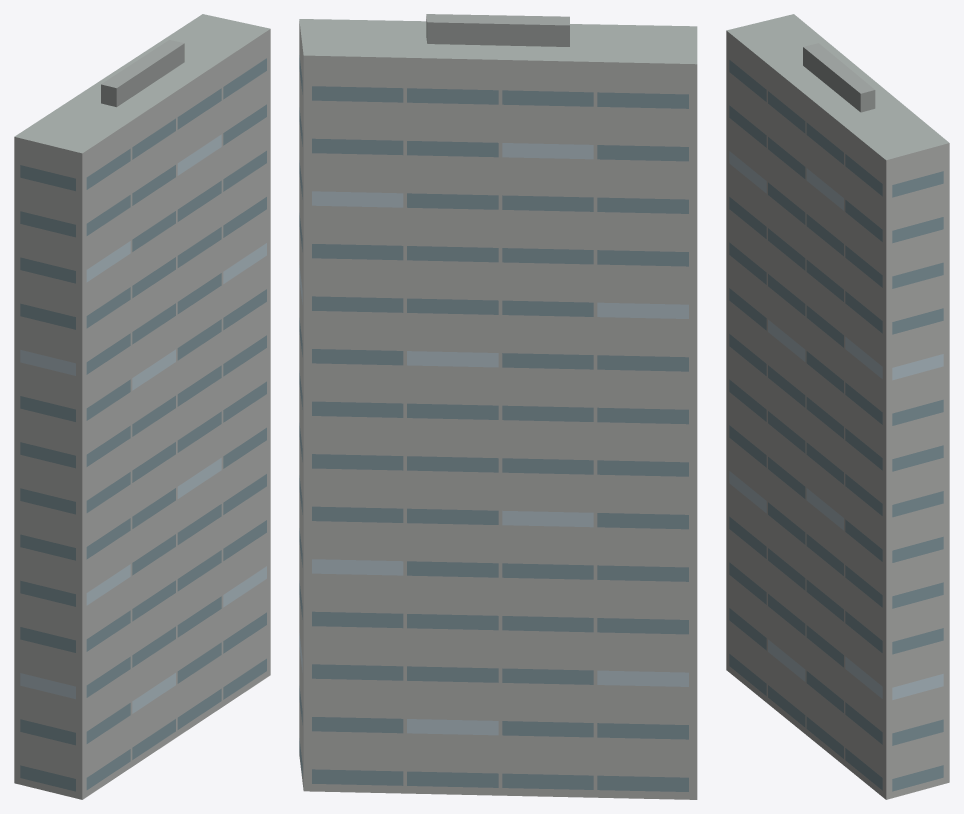
The model's file is fallback-jamsil-ricenz-239.glb.
3 views of the same model, side by side, from view 1: azimuth 30°, elevation 25°; view 2: azimuth 150°, elevation 25°; view 3: azimuth 270°, elevation 25° (orthographic). The views are drawn at different scales.
Visible parts, largest first — view 1: fallback-jamsil-ricenz-239; view 2: fallback-jamsil-ricenz-239; view 3: fallback-jamsil-ricenz-239.
Boxes of the visible parts, x1=… form: fallback-jamsil-ricenz-239: x1=14, y1=14, x2=270, y2=799; fallback-jamsil-ricenz-239: x1=299, y1=14, x2=697, y2=799; fallback-jamsil-ricenz-239: x1=726, y1=14, x2=949, y2=799.
Bounding box in the file's own units: 40.03 × 84 × 25.81.
